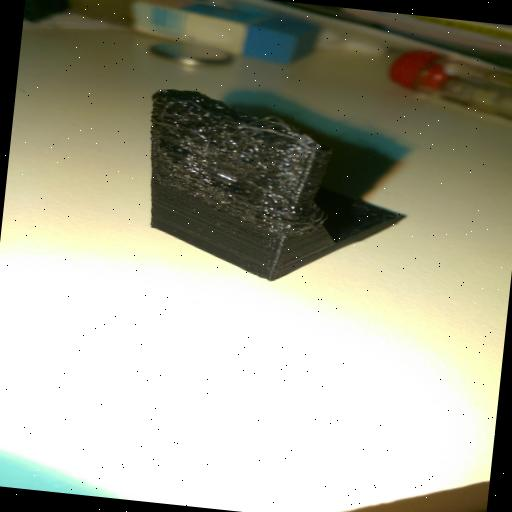blobs: (120, 76, 334, 246)
